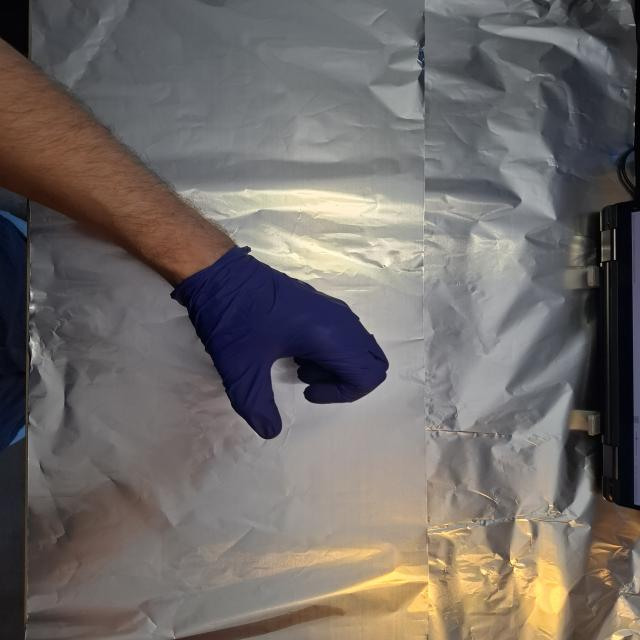glove_on: (171, 246, 394, 442)
